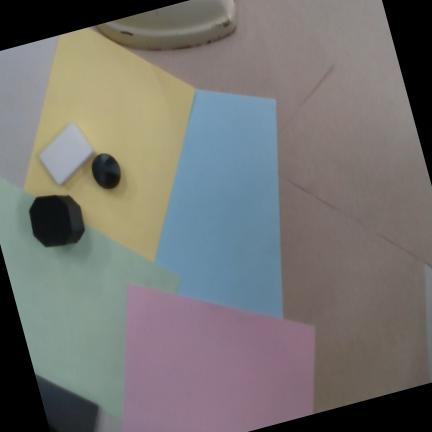Esfera: (91, 152, 121, 189)
Paralelepipedo: (38, 121, 94, 185)
Prisma_hexagonal: (28, 194, 85, 248)
